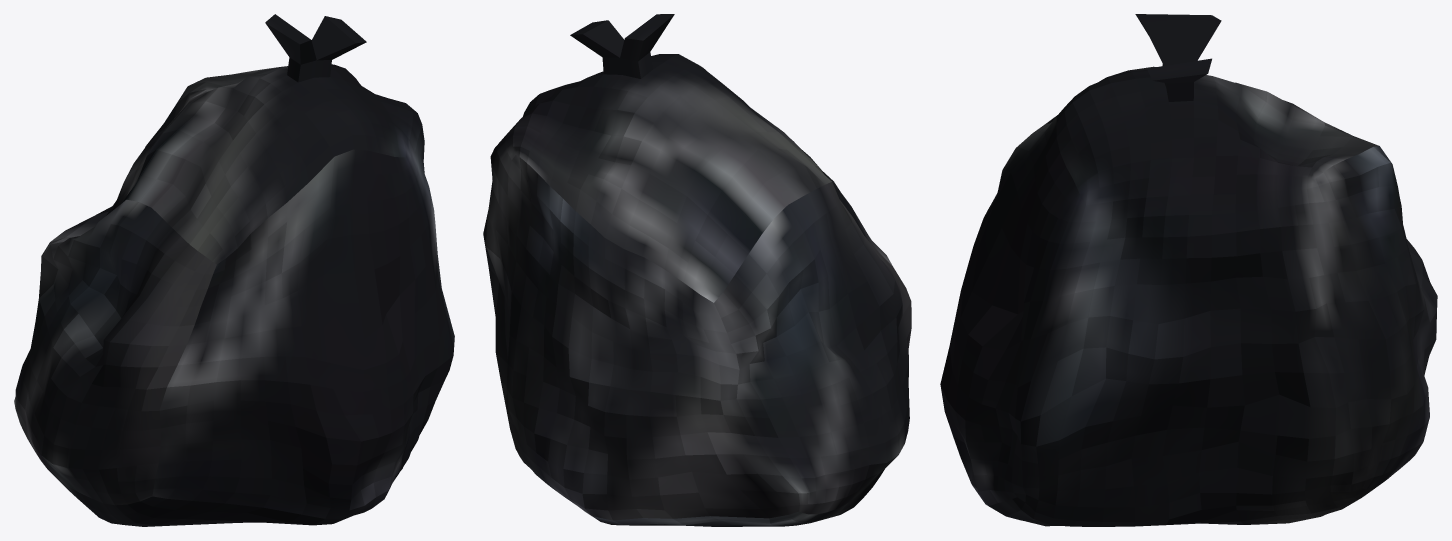
The model's file is TrashBag.fbx.
The picture shows the model from 3 angles, left to right: view 1: azimuth 30°, elevation 25°; view 2: azimuth 150°, elevation 25°; view 3: azimuth 270°, elevation 25°; orthographic projection. The views are drawn at different scales.
Parts seen in each view (by area): view 1: TrashBag; view 2: TrashBag; view 3: TrashBag.
Boxes of the visible parts, <box> form: TrashBag: <box>14,14,454,526</box>; TrashBag: <box>483,14,911,526</box>; TrashBag: <box>940,14,1437,526</box>.
Size of the model in its own units: 357 by 414 by 359.
